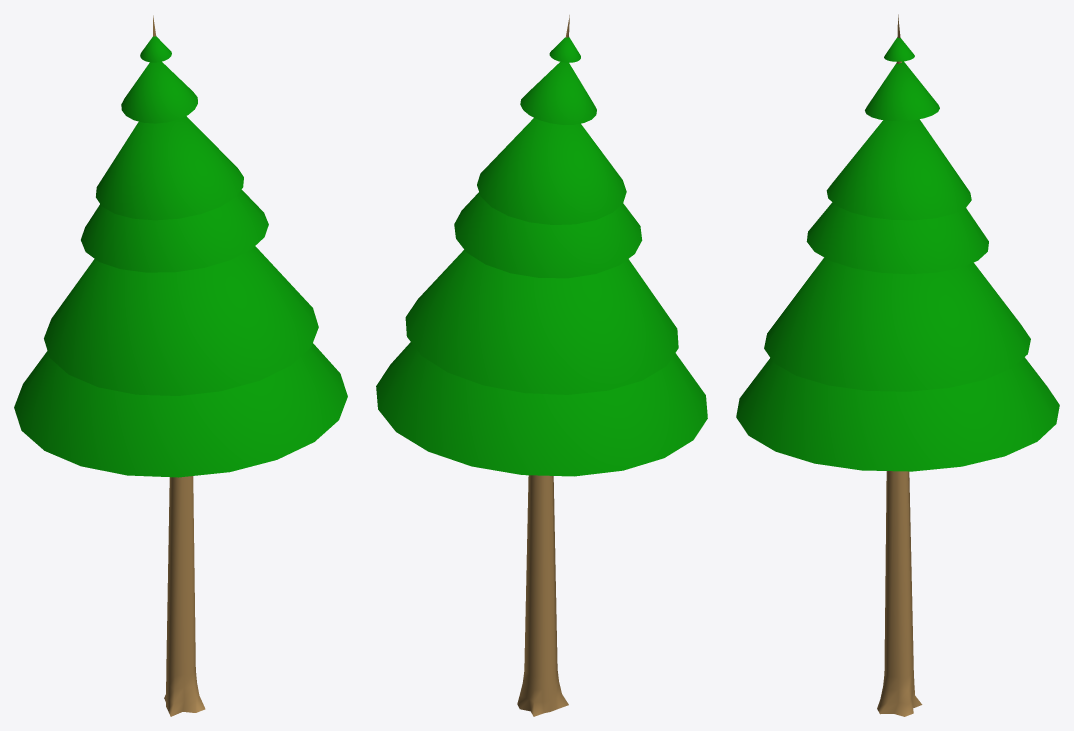
Rendered from back_ground_pine06.fbx.
The picture shows the model from 3 angles, left to right: view 1: azimuth 30°, elevation 25°; view 2: azimuth 150°, elevation 25°; view 3: azimuth 270°, elevation 25°; orthographic projection. The views are drawn at different scales.
Parts seen in each view (by area): view 1: back_ground_pine06_trunk; view 2: back_ground_pine06_trunk; view 3: back_ground_pine06_trunk.
Boxes of the visible parts, x1=… form: back_ground_pine06_trunk: x1=14, y1=15, x2=347, y2=716; back_ground_pine06_trunk: x1=376, y1=15, x2=707, y2=716; back_ground_pine06_trunk: x1=736, y1=14, x2=1059, y2=716.
Bounding box in the file's own units: 1367 × 3172 × 1369.
